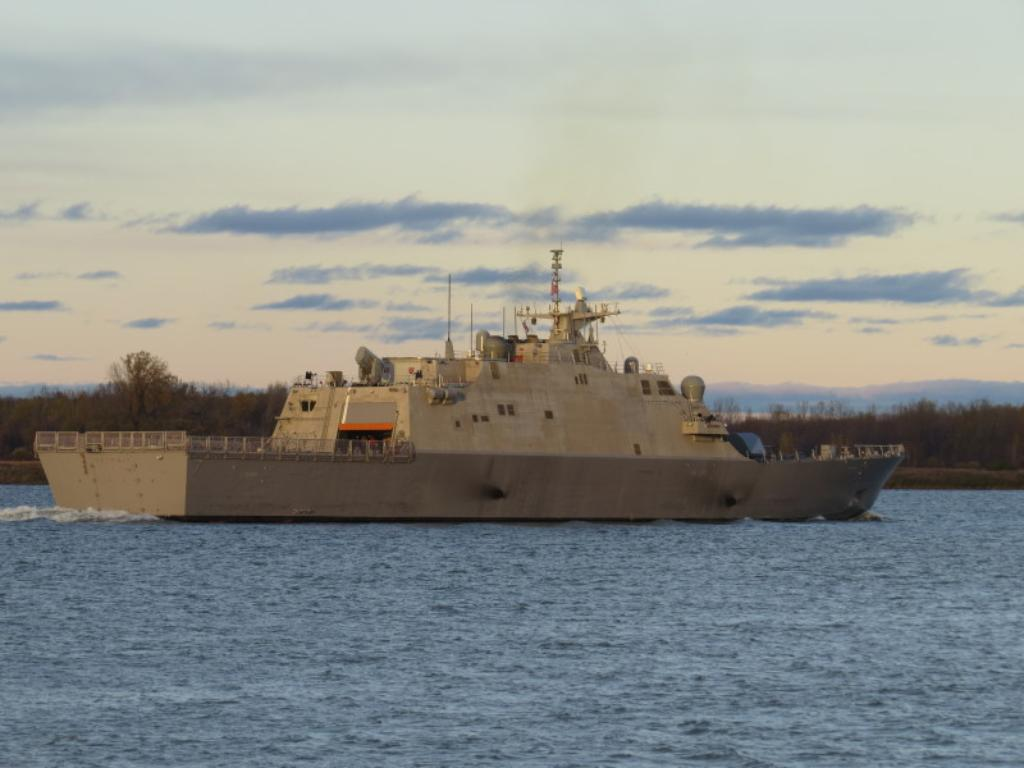Warship: (30, 244, 910, 526)
